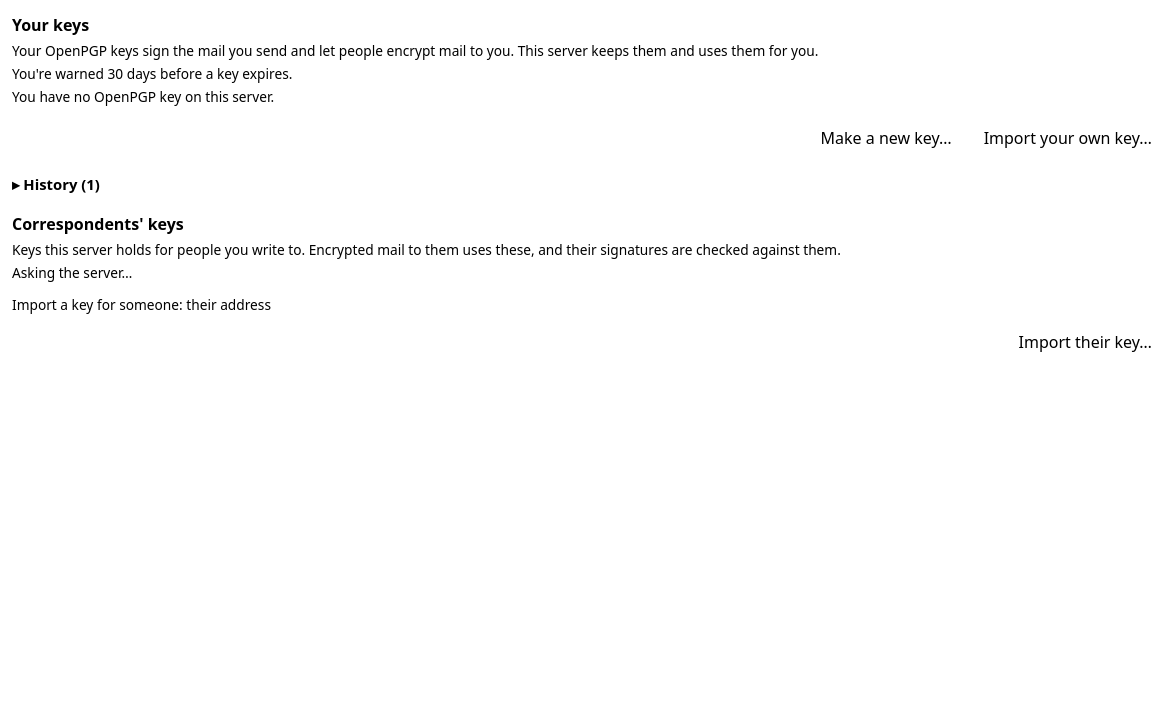
Scenario: your keys › a revoked key is under History, and offers only a backup
The width and height of the screenshot is (1176, 713).
Click the button with class "key-history-toggle" at (56, 184), box [12,170,100,199]
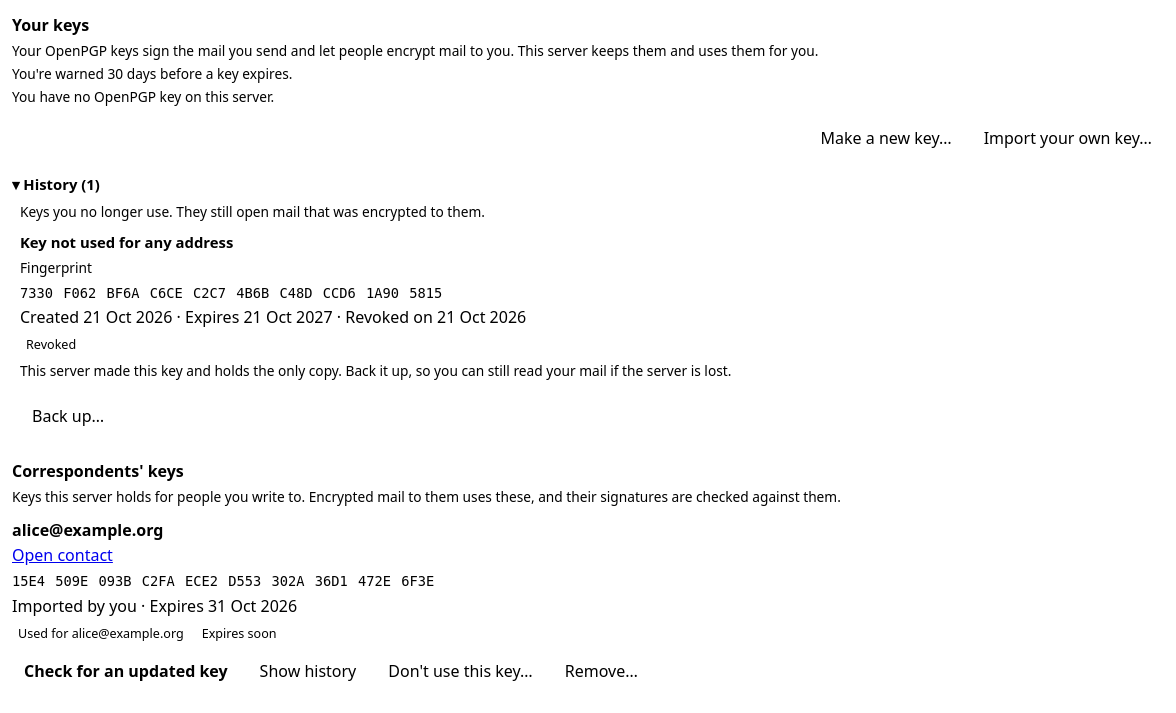
Expected: the list item with class "own-key" shows "Revoked on 21 Oct 2026", [345,306,526,328]
